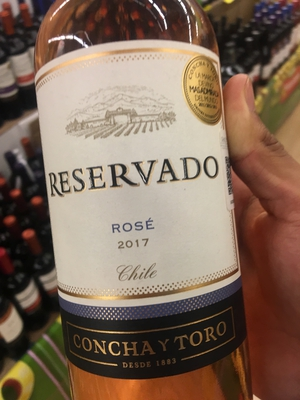reservado rose: (32, 1, 257, 400)
